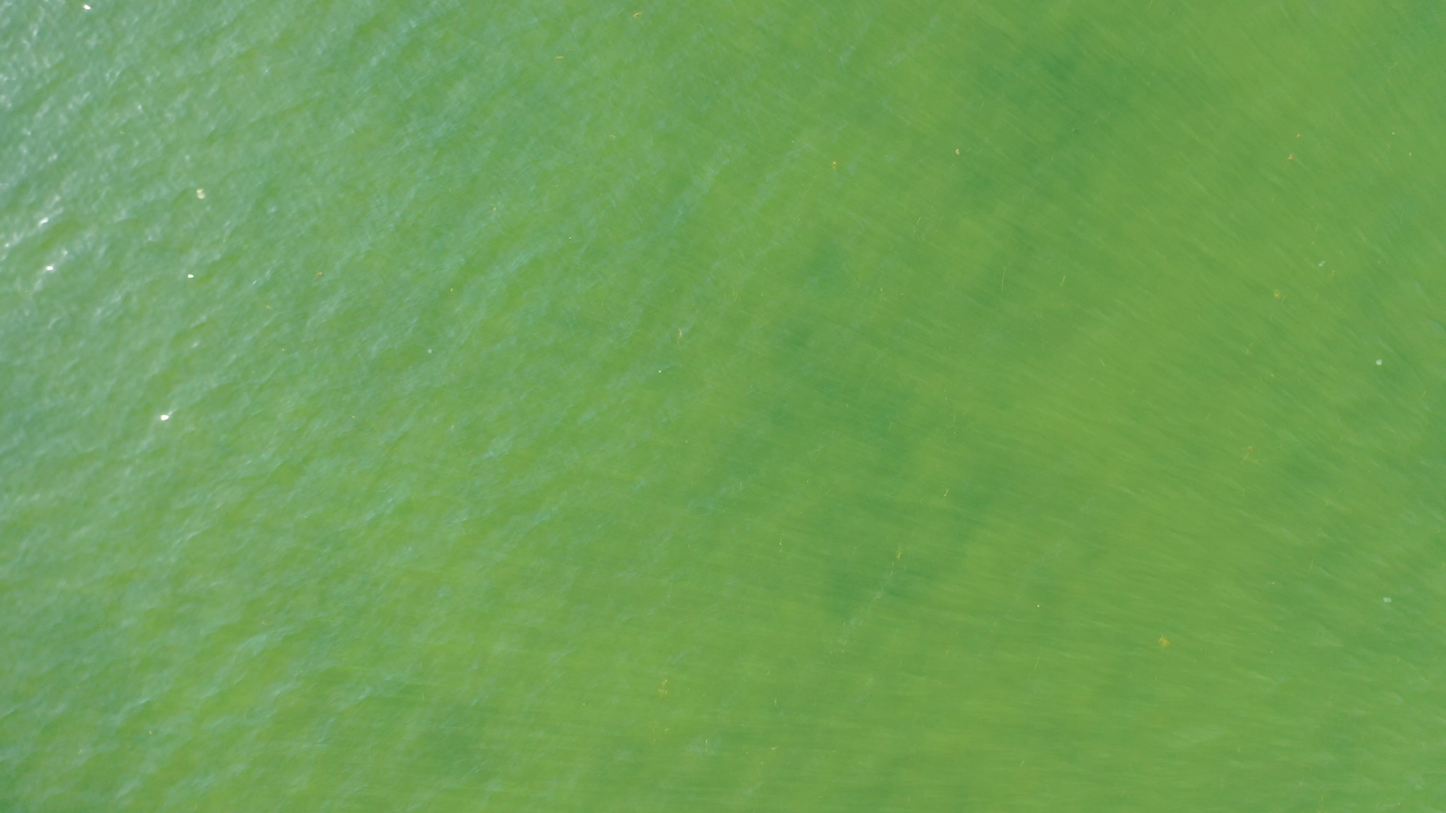meduse: (192, 189, 204, 200), (1321, 259, 1329, 267), (1374, 358, 1381, 367)
